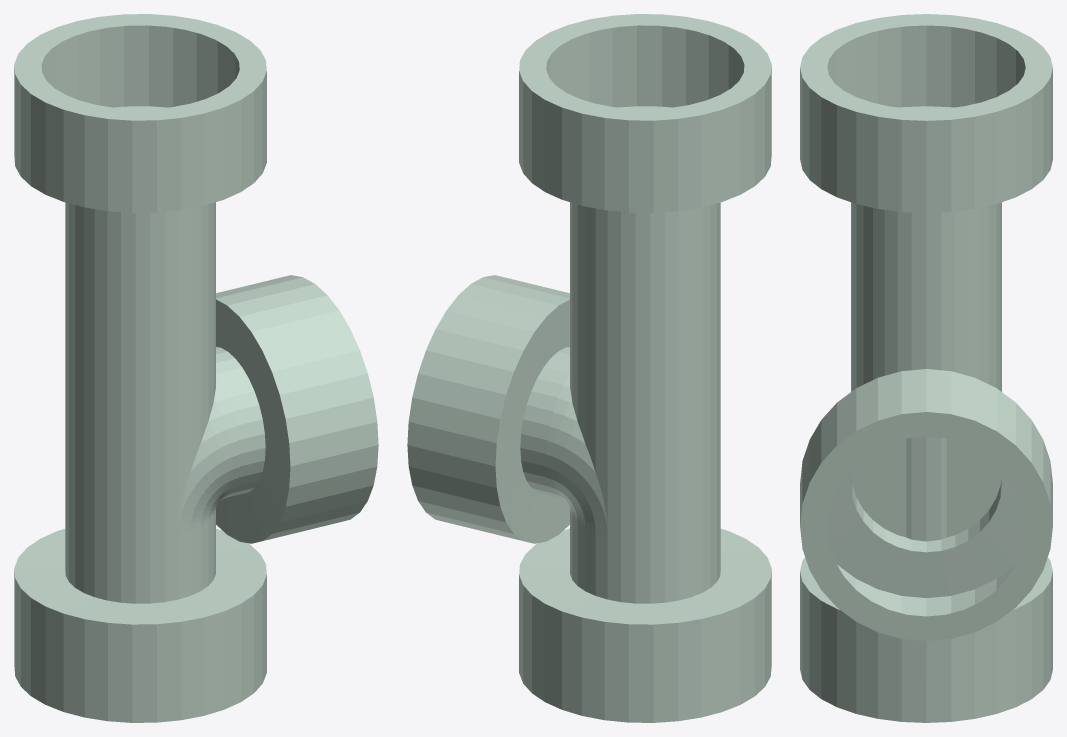
File: G477Proj2Pipes.fbx
3 renders of one model, left to right at view 1: azimuth 30°, elevation 25°; view 2: azimuth 150°, elevation 25°; view 3: azimuth 270°, elevation 25°, orthographic.
Parts seen in each view (by area): view 1: PipeStraight.001, PipeCurve.001; view 2: PipeStraight.001, PipeCurve.001; view 3: PipeStraight.001, PipeCurve.001.
Part boxes in pixels (x1,y1,x2,y2): PipeStraight.001: (14, 14, 266, 716); PipeCurve.001: (14, 275, 378, 722); PipeStraight.001: (519, 14, 771, 697); PipeCurve.001: (407, 275, 771, 722); PipeStraight.001: (800, 14, 1052, 716); PipeCurve.001: (800, 369, 1052, 722).
Bounding box in the file's own units: 34.9 × 70.67 × 26.9.
